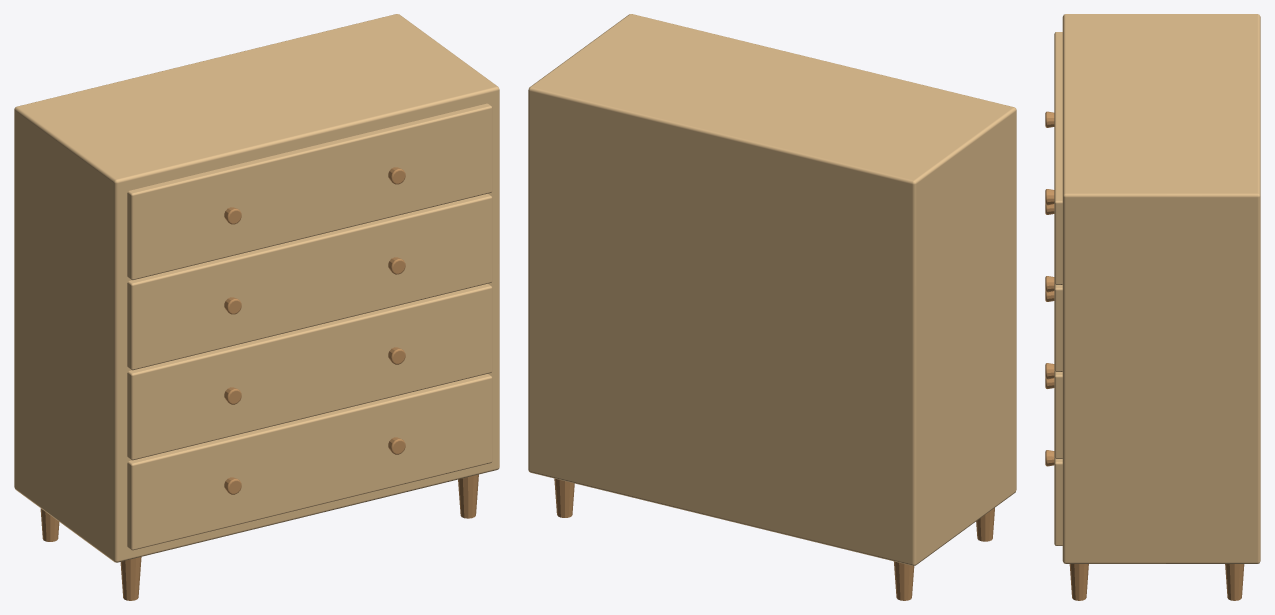
The model's file is chest_drawers.glb.
The picture shows the model from 3 angles, left to right: view 1: azimuth 30°, elevation 25°; view 2: azimuth 150°, elevation 25°; view 3: azimuth 270°, elevation 25°; orthographic projection. The views are drawn at different scales.
Visible parts, largest first — view 1: chest_drawers; view 2: chest_drawers; view 3: chest_drawers.
Boxes of the visible parts, <box> form: chest_drawers: <box>14,14,499,600</box>; chest_drawers: <box>528,14,1016,600</box>; chest_drawers: <box>1045,14,1260,600</box>.
Size of the model in its own units: 0.8 by 0.85 by 0.4.
